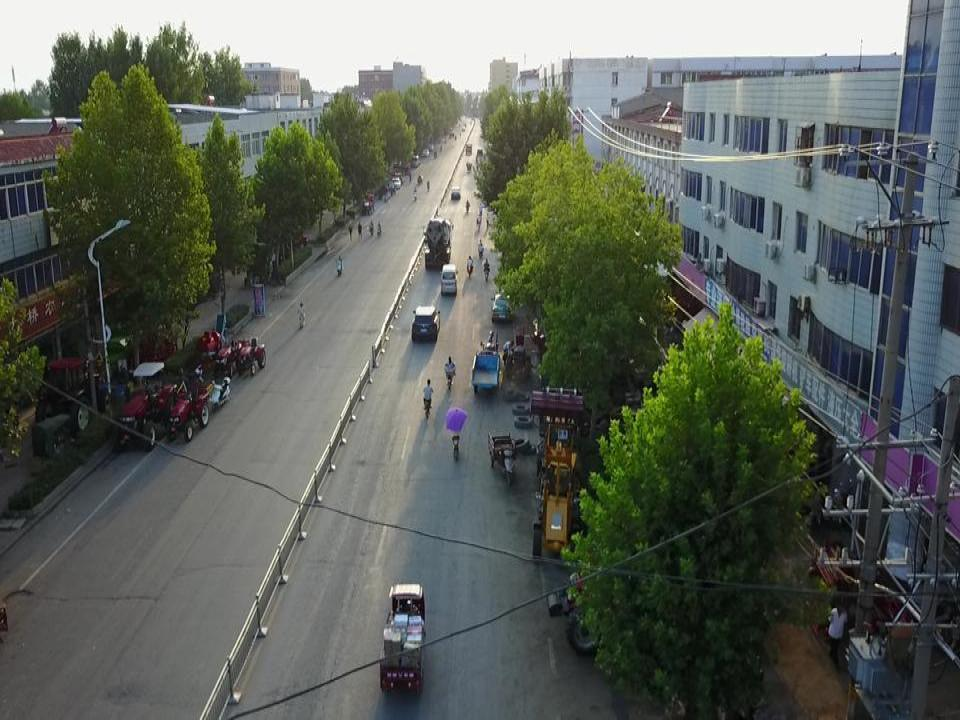car: (411, 304, 441, 344), (490, 292, 514, 324), (449, 182, 460, 202), (476, 148, 484, 156)
truck: (30, 356, 113, 457), (111, 361, 192, 456), (379, 584, 426, 696), (166, 380, 213, 443), (422, 216, 454, 271), (212, 336, 250, 377), (361, 193, 375, 215), (465, 142, 472, 154)
van: (439, 263, 458, 297), (390, 176, 401, 191), (410, 155, 420, 168)
